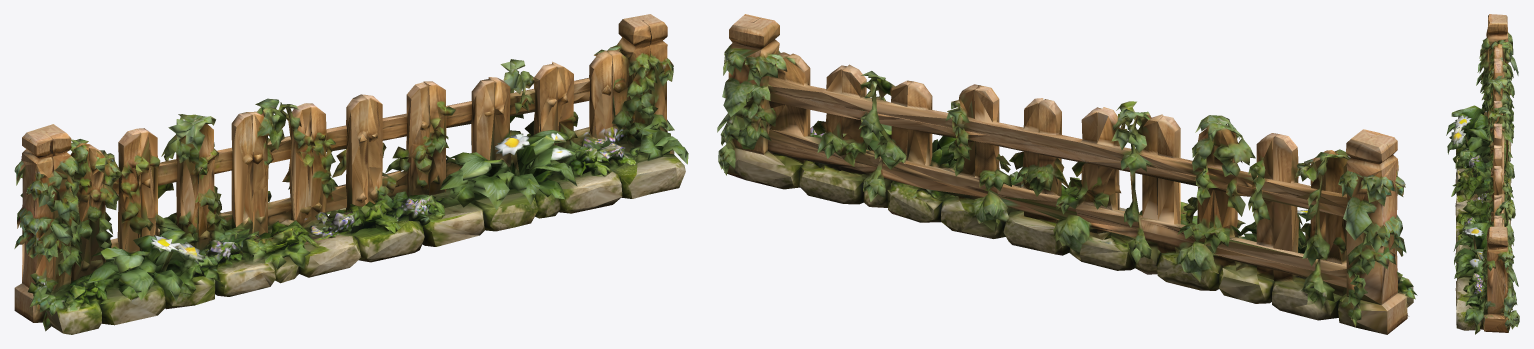
File: left_enclosure.glb
3 renders of one model, left to right at view 1: azimuth 30°, elevation 25°; view 2: azimuth 150°, elevation 25°; view 3: azimuth 270°, elevation 25°, orthographic. The views are drawn at different scales.
Visible parts, largest first — view 1: tripo_node_cd8189b3; view 2: tripo_node_cd8189b3; view 3: tripo_node_cd8189b3.
Part boxes in pixels (x1,y1,x2,y2): tripo_node_cd8189b3: (14,14,688,334); tripo_node_cd8189b3: (717,14,1417,334); tripo_node_cd8189b3: (1446,14,1519,334).
Bounding box in the file's own units: 3.2 × 0.8501 × 0.4755.
Materials: 1 (1 with a texture image).
